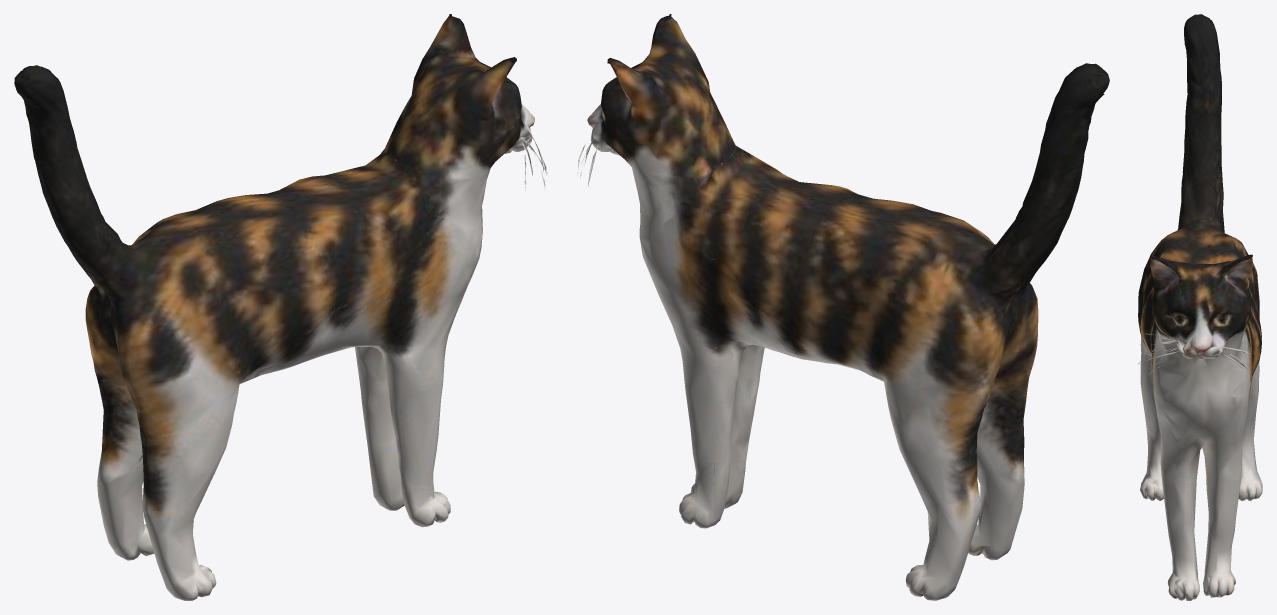
Rendered from SHACHIHIME-lo.glb.
The picture shows the model from 3 angles, left to right: view 1: azimuth 30°, elevation 25°; view 2: azimuth 150°, elevation 25°; view 3: azimuth 270°, elevation 25°; orthographic projection. The views are drawn at different scales.
Parts seen in each view (by area): view 1: tripo_node_39708b36-a44c-4606-a248-9aedc5c88788; view 2: tripo_node_39708b36-a44c-4606-a248-9aedc5c88788; view 3: tripo_node_39708b36-a44c-4606-a248-9aedc5c88788.
Boxes of the visible parts, <box> form: tripo_node_39708b36-a44c-4606-a248-9aedc5c88788: <box>14,14,547,600</box>; tripo_node_39708b36-a44c-4606-a248-9aedc5c88788: <box>577,14,1109,600</box>; tripo_node_39708b36-a44c-4606-a248-9aedc5c88788: <box>1138,14,1262,600</box>.
Size of the model in its own units: 1 by 0.9991 by 0.2616.
1 material, 1 textured.
